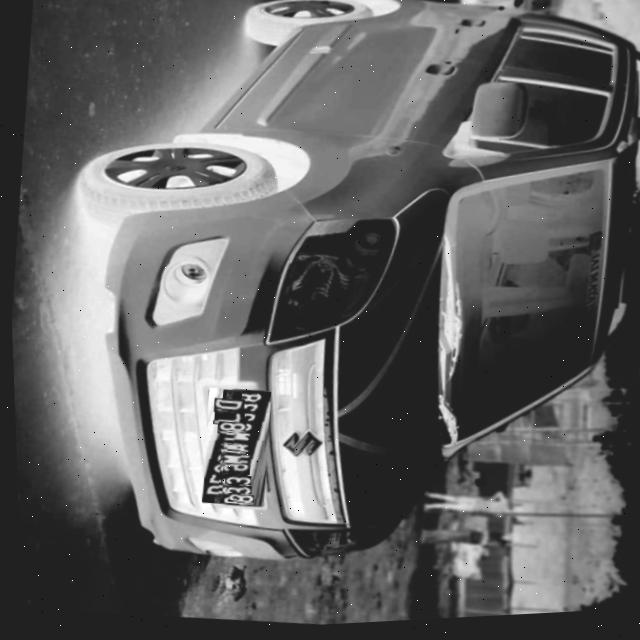3: (219, 476, 246, 489), (220, 486, 247, 498)
6: (217, 465, 245, 479)
8: (213, 422, 241, 436), (223, 495, 249, 507)
A: (217, 445, 244, 457)
C: (212, 433, 244, 448)
D: (209, 399, 240, 415)
IND: (218, 390, 237, 404)
Indian_registered: (197, 393, 266, 507)
L: (209, 411, 240, 427)
M: (217, 453, 245, 467)
